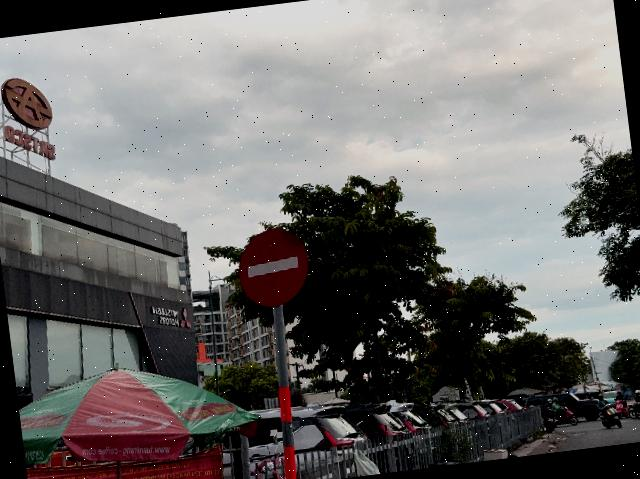cam-di-nguoc-chieu: (234, 224, 312, 310)
